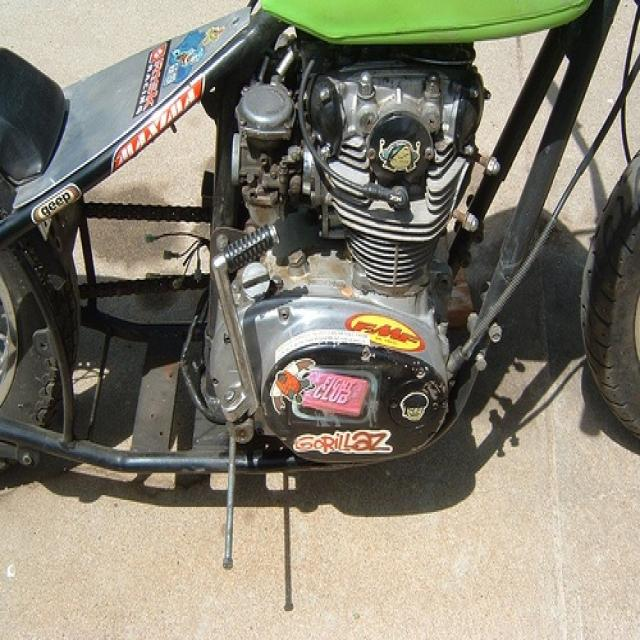motorbike: (0, 0, 639, 493)
